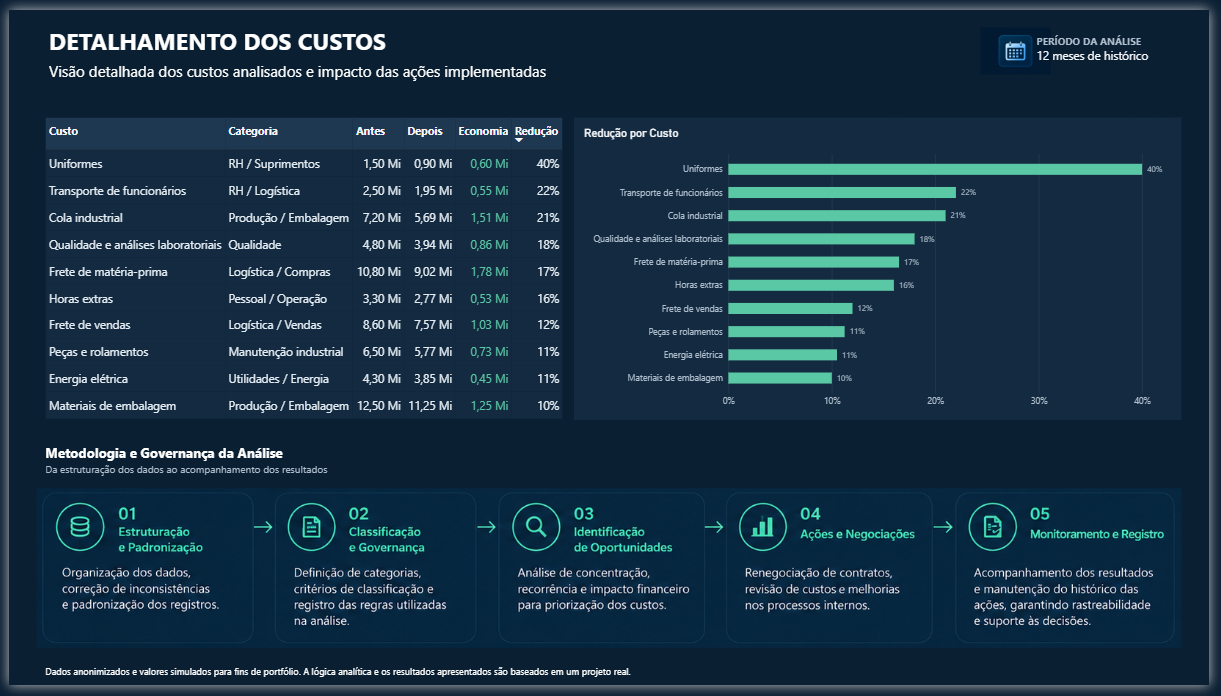

Layout of this report page (visuals, bound fields, positions):
{"tool":"powerbi","page":{"name":"detalhamento","canvas":[1920,1080],"ordinal":1},"visuals":[{"type":"image","box":[1553,19.2,112.9,91.4],"z":0},{"type":"textbox","box":[63.2,24,774,54],"z":1000},{"type":"textbox","box":[63.2,82,1146,38],"z":2000},{"type":"textbox","box":[1644.2,38,200,54],"z":3000},{"type":"textbox","box":[58,1048,1038,32],"z":5000},{"type":"tableEx","fields":{"Values":["Resumo_Fornecedores.Fornecedor","Resumo_Fornecedores.Categoria","Resumo_Fornecedores.Antes","Resumo_Fornecedores.Depois","Resumo_Fornecedores.Economia_R$","Resumo_Fornecedores.Economia_%"]},"box":[42,158,862,536],"z":6000},{"type":"clusteredBarChart","title":"Redução por Custo","fields":{"Category":["Resumo_Fornecedores.Fornecedor"],"Y":["Sum(Resumo_Fornecedores.Economia_%)"]},"box":[904,172,972,484],"z":6001},{"type":"image","box":[44,754,1832,278],"z":6002},{"type":"textbox","box":[58,694,1166,86],"z":6003}]}

Visuals, with their boxes in screenshot pixels (x1, y1, x2, y2), scaled from the page's 1920x1080 canvas onto the 1221x696 screenshot:
image: (988,12,1059,71)
textbox: (40,15,532,50)
textbox: (40,53,769,77)
textbox: (1046,24,1173,59)
textbox: (37,675,697,695)
tableEx - Resumo_Fornecedores.Fornecedor x Resumo_Fornecedores.Categoria: (27,102,575,447)
"Redução por Custo" clusteredBarChart: (575,111,1193,423)
image: (28,486,1193,665)
textbox: (37,447,778,503)
